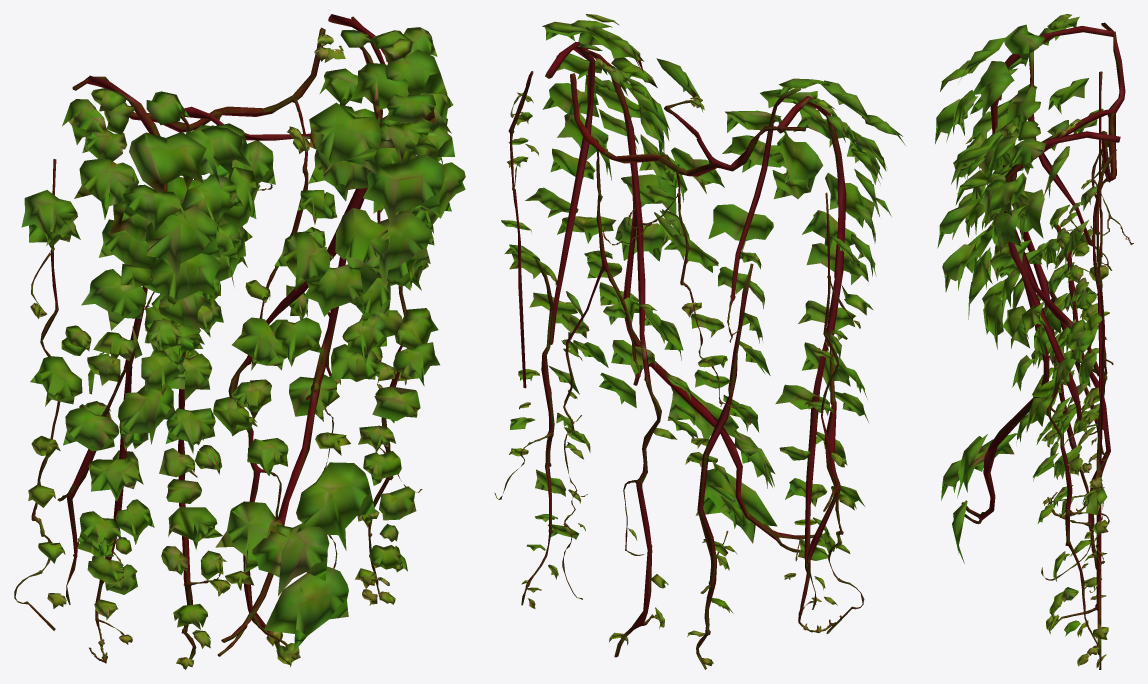
File: vines-hanging.lod0.glb
3 views of the same model, side by side, from view 1: azimuth 30°, elevation 25°; view 2: azimuth 150°, elevation 25°; view 3: azimuth 270°, elevation 25° (orthographic). The views are drawn at different scales.
Visible parts, largest first — view 1: Object_4; view 2: Object_4; view 3: Object_4.
Part boxes in pixels (bbox=[...]): Object_4: bbox=[14, 14, 465, 669]; Object_4: bbox=[494, 14, 905, 669]; Object_4: bbox=[935, 14, 1133, 669].
Size of the model in its own units: 2.67 by 4 by 1.29.
1 material, 1 textured.
